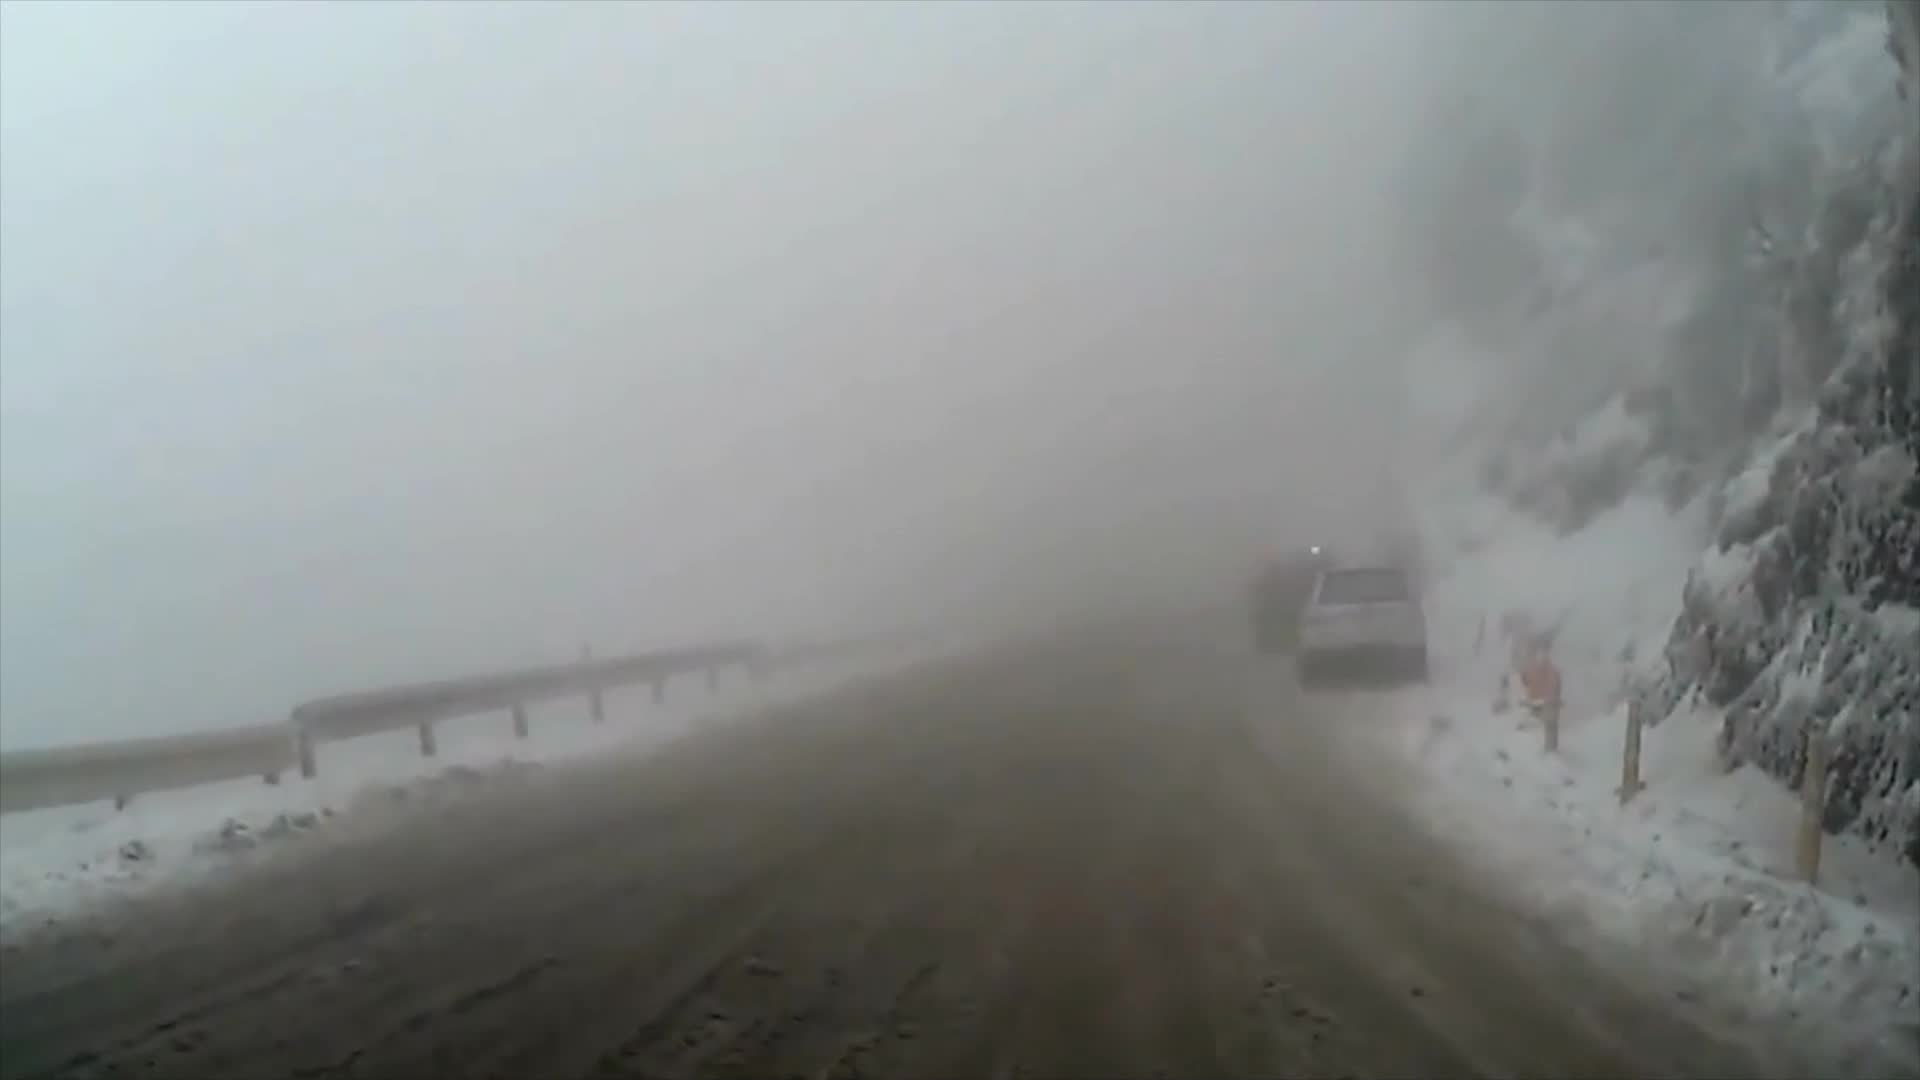vehicle: (1300, 558, 1424, 686), (1244, 556, 1356, 665)
